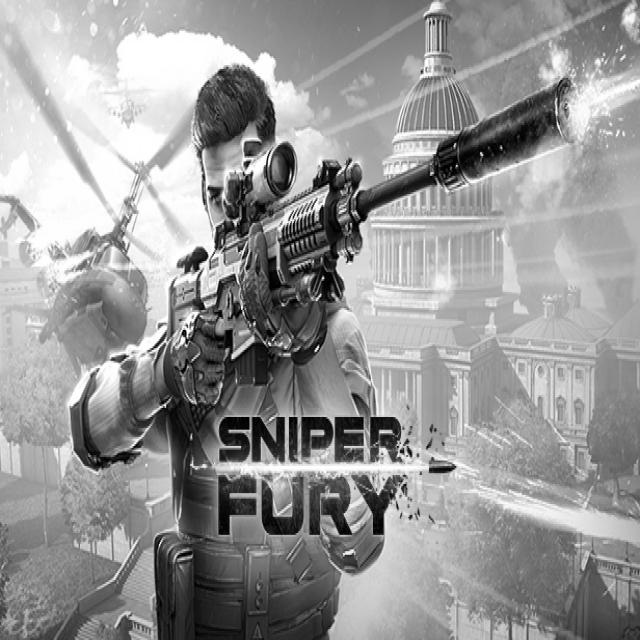Sniper: (169, 79, 580, 385)
